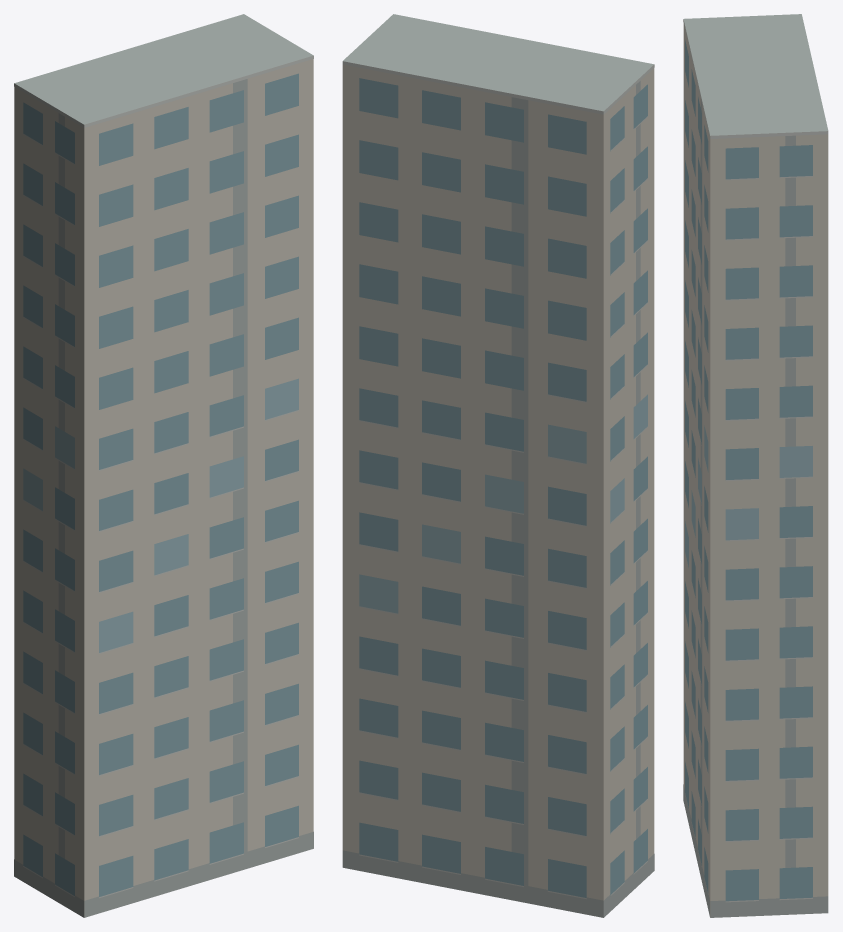
Rendered from residential-f58cde92-3f3d-48db-be21-e980c2115e46.glb.
3 views of the same model, side by side, from view 1: azimuth 30°, elevation 25°; view 2: azimuth 150°, elevation 25°; view 3: azimuth 270°, elevation 25° (orthographic). The views are drawn at different scales.
Parts seen in each view (by area): view 1: residential-f58cde92-3f3d-48db-be21-e980c2115e46.tmp; view 2: residential-f58cde92-3f3d-48db-be21-e980c2115e46.tmp; view 3: residential-f58cde92-3f3d-48db-be21-e980c2115e46.tmp.
Part boxes in pixels (<box>): residential-f58cde92-3f3d-48db-be21-e980c2115e46.tmp: <box>14,14,313,917</box>; residential-f58cde92-3f3d-48db-be21-e980c2115e46.tmp: <box>342,14,654,917</box>; residential-f58cde92-3f3d-48db-be21-e980c2115e46.tmp: <box>683,14,828,917</box>.
Size of the model in its own units: 19.39 by 58 by 9.75.
